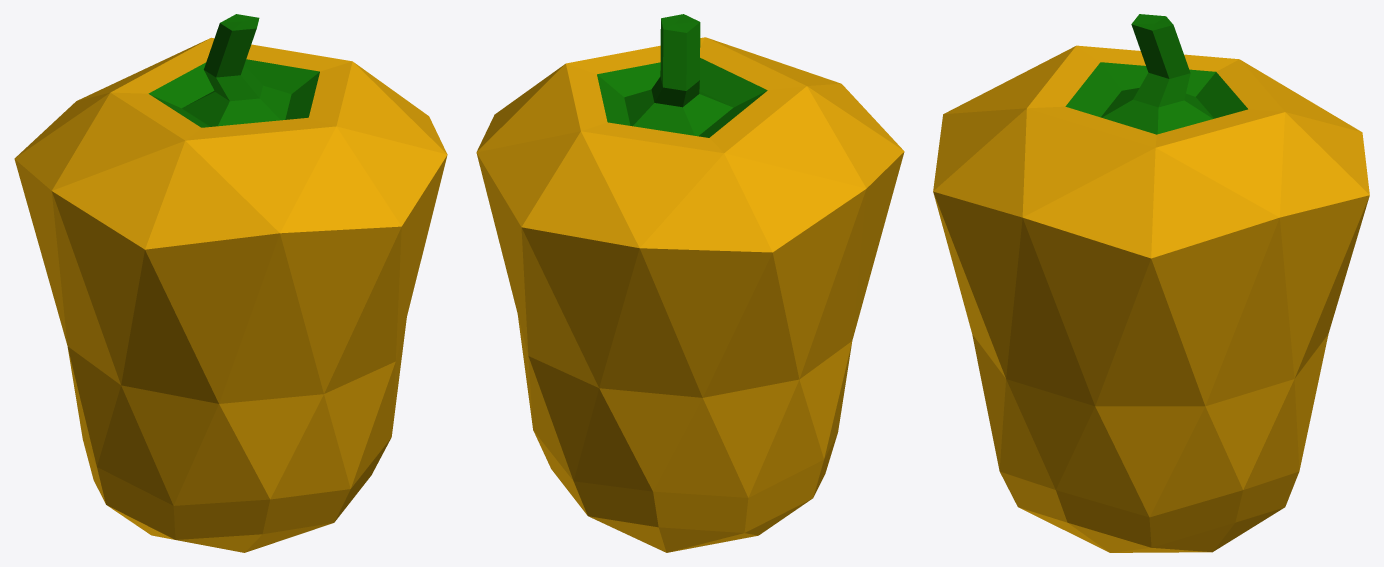
The model's file is bellpepper_yellow.fbx.
3 views of the same model, side by side, from view 1: azimuth 30°, elevation 25°; view 2: azimuth 150°, elevation 25°; view 3: azimuth 270°, elevation 25° (orthographic). The views are drawn at different scales.
Visible parts, largest first — view 1: Icosphere; view 2: Icosphere; view 3: Icosphere.
Part boxes in pixels (x1,y1,x2,y2): Icosphere: (14, 14, 447, 552); Icosphere: (476, 14, 904, 552); Icosphere: (933, 14, 1369, 552).
Bounding box in the file's own units: 296 × 371 × 289.
